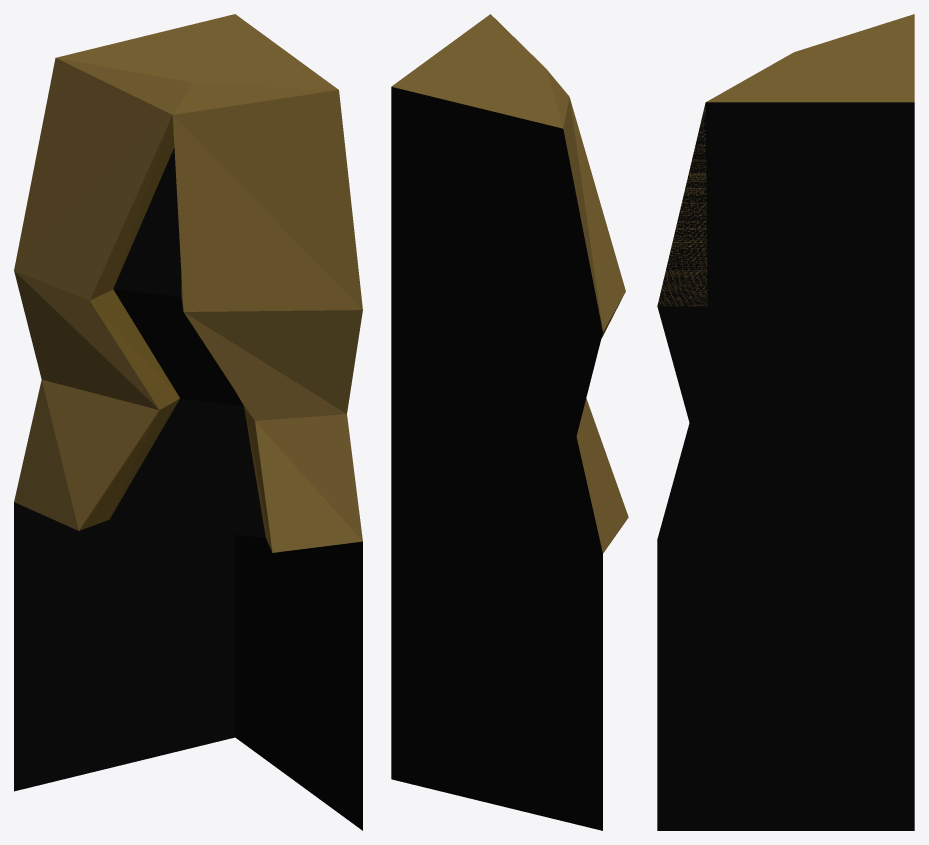
The model's file is obj_crevice_1.obj.
3 views of the same model, side by side, from view 1: azimuth 30°, elevation 25°; view 2: azimuth 150°, elevation 25°; view 3: azimuth 270°, elevation 25° (orthographic). The views are drawn at different scales.
Bounding box in the file's own units: 1 × 3.12 × 1.
